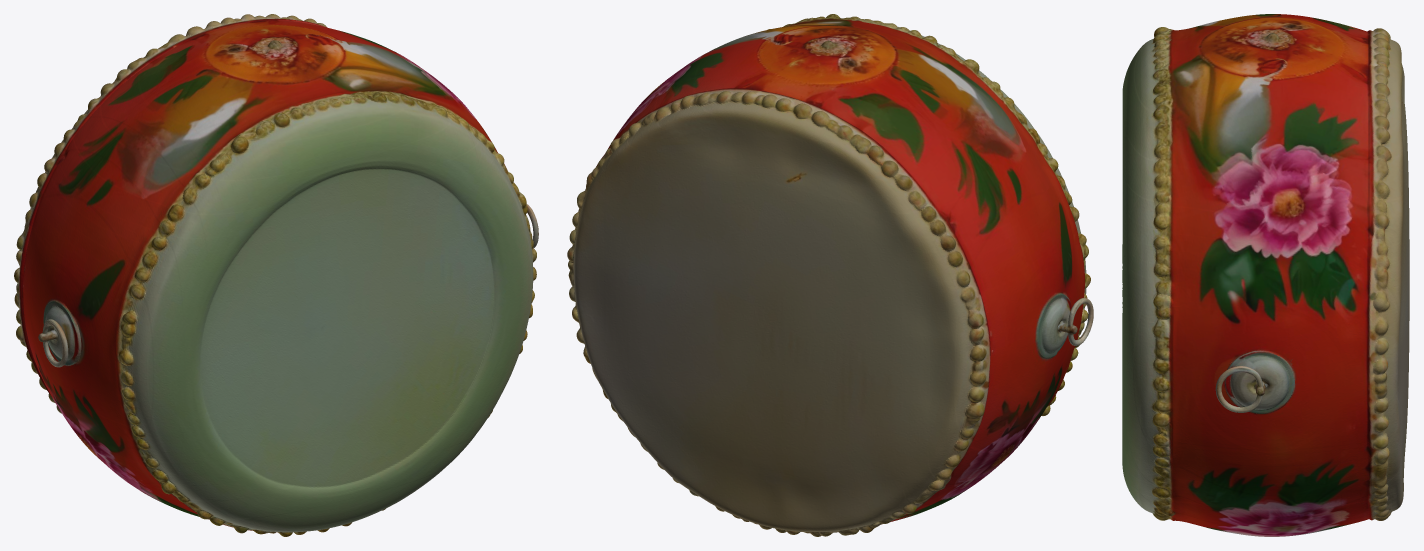
File: huagu.glb
3 views of the same model, side by side, from view 1: azimuth 30°, elevation 25°; view 2: azimuth 150°, elevation 25°; view 3: azimuth 270°, elevation 25° (orthographic). The views are drawn at different scales.
Visible parts, largest first — view 1: tripo_node_d0f60440-08d6-467b-9a79-f5b26b5621ad; view 2: tripo_node_d0f60440-08d6-467b-9a79-f5b26b5621ad; view 3: tripo_node_d0f60440-08d6-467b-9a79-f5b26b5621ad.
Boxes of the visible parts, bbox=[...] form: tripo_node_d0f60440-08d6-467b-9a79-f5b26b5621ad: bbox=[14, 14, 538, 536]; tripo_node_d0f60440-08d6-467b-9a79-f5b26b5621ad: bbox=[567, 14, 1093, 536]; tripo_node_d0f60440-08d6-467b-9a79-f5b26b5621ad: bbox=[1122, 14, 1409, 536].
Size of the model in its own units: 100 by 92.84 by 50.01.
Materials: 1 (1 with a texture image).
